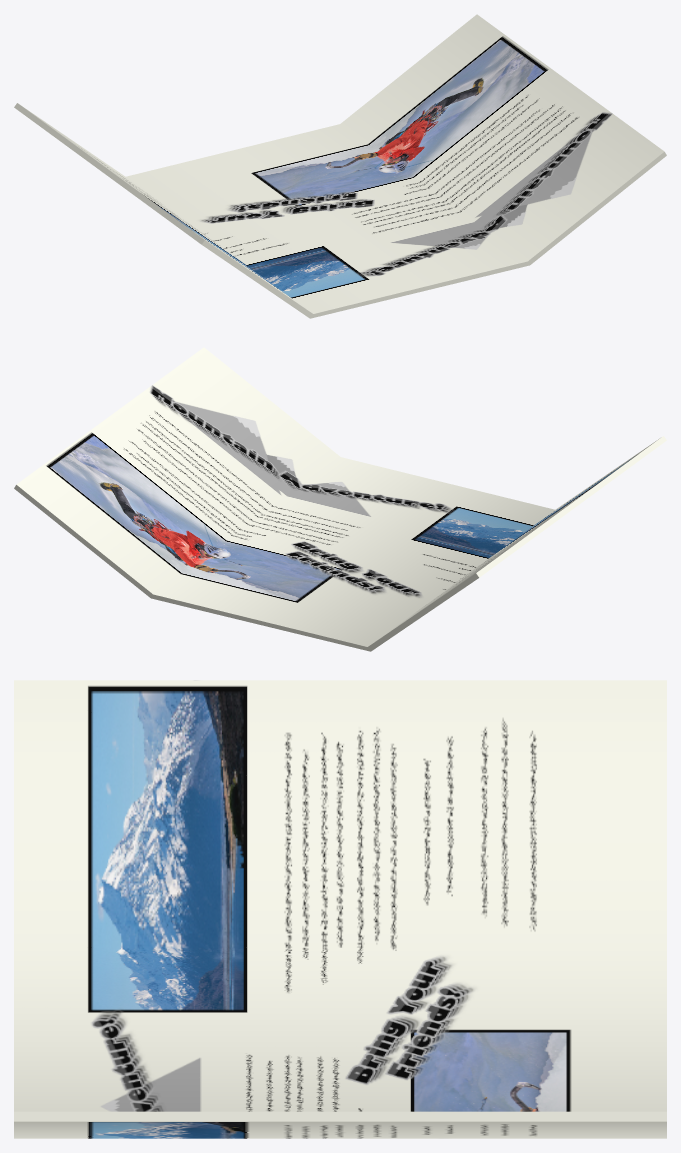
Rendered from Brochure.fbx.
3 views of the same model, one above another, from view 1: azimuth 30°, elevation 25°; view 2: azimuth 150°, elevation 25°; view 3: azimuth 270°, elevation 25° (orthographic). The views are drawn at different scales.
Visible parts, largest first — view 1: pCube1; view 2: pCube1; view 3: pCube1.
Part boxes in pixels (x1,y1,x2,y2): pCube1: [14, 14, 666, 318]; pCube1: [14, 347, 666, 651]; pCube1: [14, 680, 666, 1138].
Size of the model in its own units: 3.02 by 0.6478 by 2.11.
Materials: 1 (1 with a texture image).
